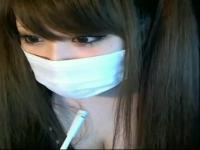face_mask: (16, 1, 124, 95)
